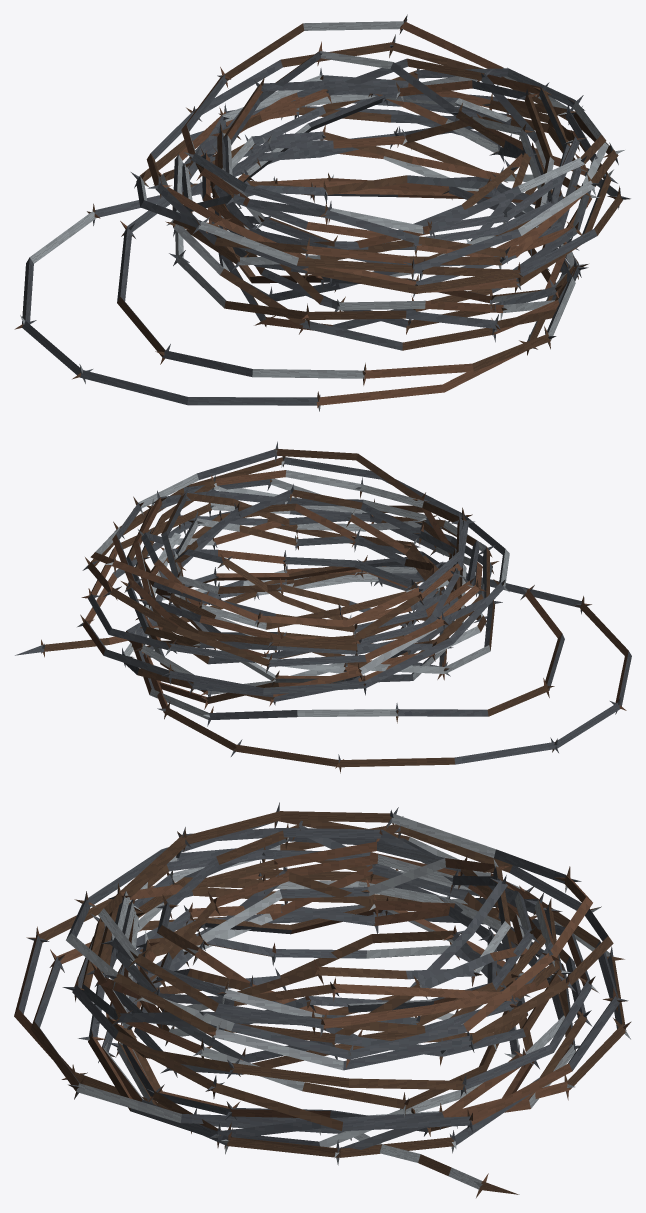
Rendered from barbed_wire.glb.
3 views of the same model, one above another, from view 1: azimuth 30°, elevation 25°; view 2: azimuth 150°, elevation 25°; view 3: azimuth 270°, elevation 25° (orthographic). The views are drawn at different scales.
Parts seen in each view (by area): view 1: barbed_wire; view 2: barbed_wire; view 3: barbed_wire.
Part boxes in pixels (bbox=[...]): barbed_wire: bbox=[14, 14, 630, 411]; barbed_wire: bbox=[15, 441, 631, 773]; barbed_wire: bbox=[14, 802, 631, 1197].
Bounding box in the file's own units: 1.57 × 0.4614 × 1.25.
1 material, 1 textured.
